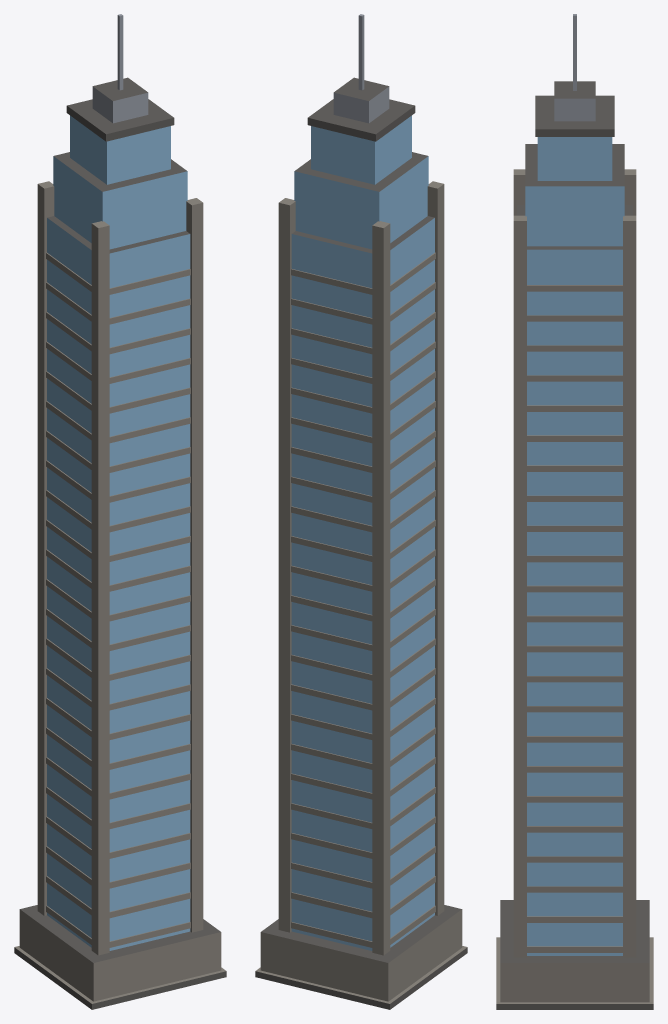
File: gran_torre.obj
The picture shows the model from 3 angles, left to right: view 1: azimuth 30°, elevation 25°; view 2: azimuth 150°, elevation 25°; view 3: azimuth 270°, elevation 25°; orthographic projection.
Parts seen in each view (by area): view 1: gran_torre; view 2: gran_torre; view 3: gran_torre.
Boxes of the visible parts, x1,y1,x2,y2 form: gran_torre: (14, 14, 226, 1009); gran_torre: (255, 14, 467, 1009); gran_torre: (496, 14, 653, 1009).
Size of the model in its own units: 19 by 128 by 19.
